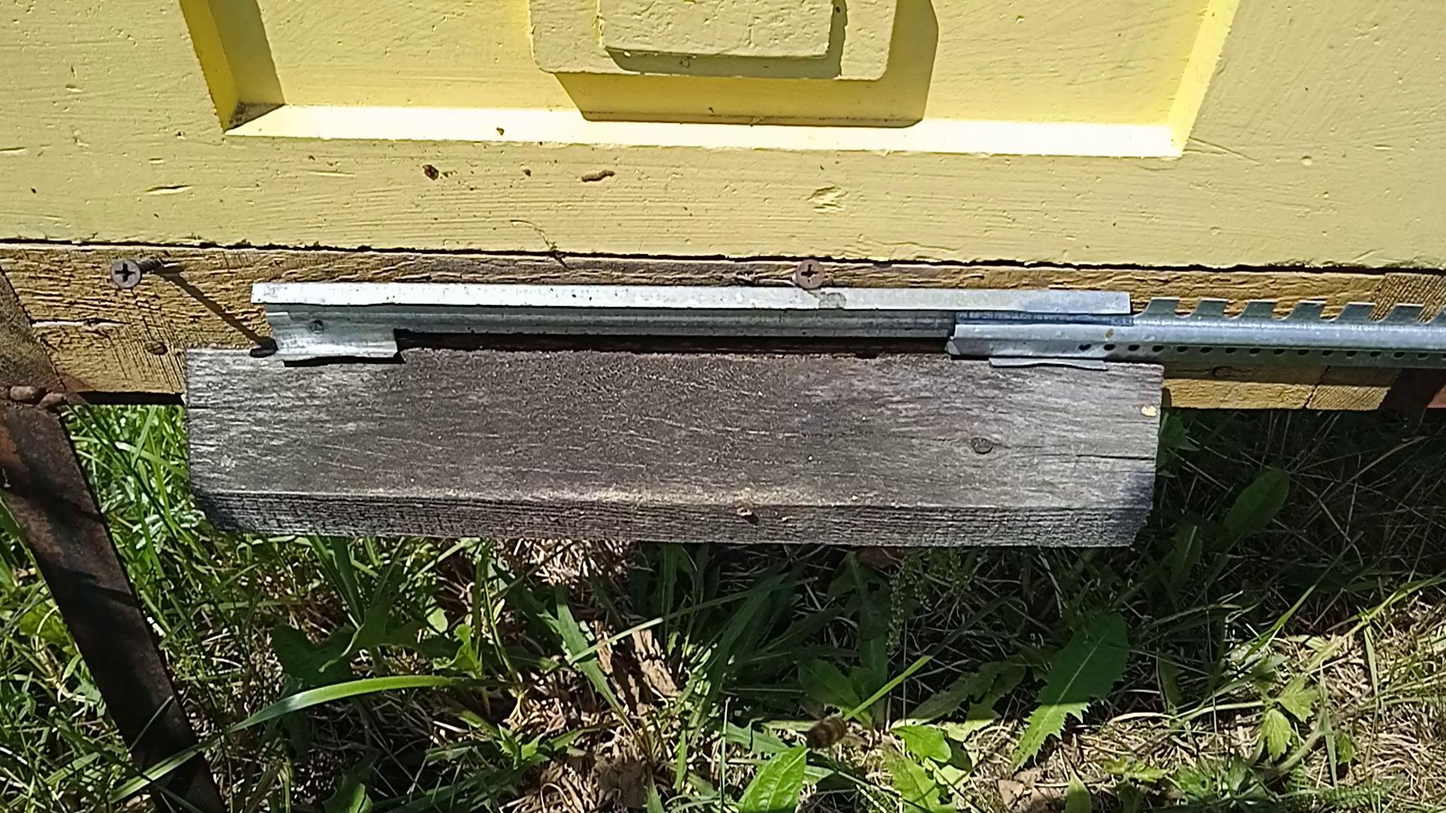worker-bee: (804, 720, 849, 751)
